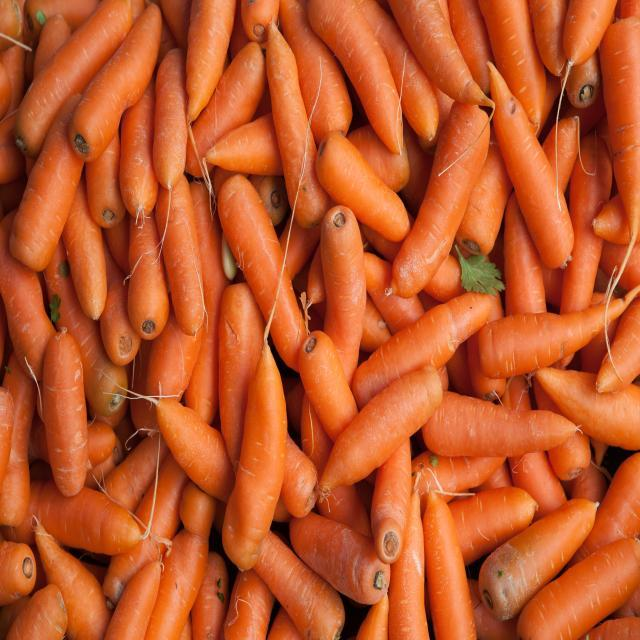carrot: (383, 96, 491, 307), (315, 363, 443, 516), (487, 61, 576, 276), (221, 330, 290, 574), (70, 1, 165, 168), (477, 498, 603, 621), (519, 531, 640, 640), (42, 319, 92, 509)
